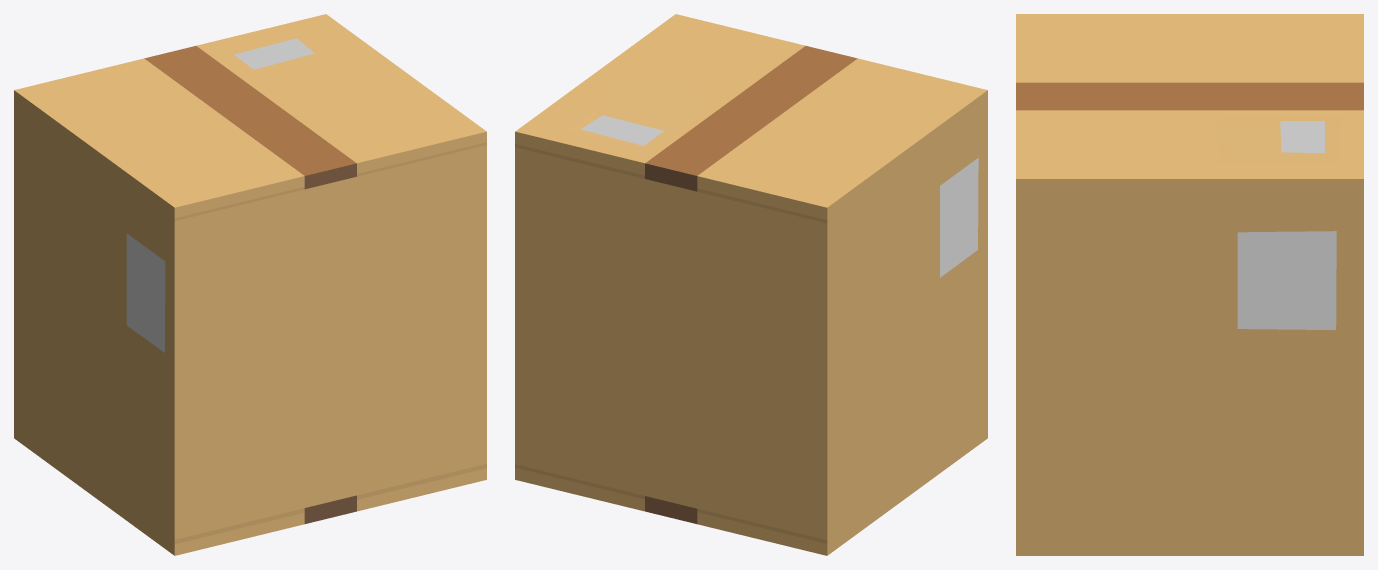
The model's file is Cs_Sqr_Brn.fbx.
3 renders of one model, left to right at view 1: azimuth 30°, elevation 25°; view 2: azimuth 150°, elevation 25°; view 3: azimuth 270°, elevation 25°, orthographic. The views are drawn at different scales.
Visible parts, largest first — view 1: Cs_Sqr_Brn; view 2: Cs_Sqr_Brn; view 3: Cs_Sqr_Brn.
Part boxes in pixels (box(x1,y1,x2,y2)): Cs_Sqr_Brn: box(14, 14, 486, 555); Cs_Sqr_Brn: box(515, 14, 987, 555); Cs_Sqr_Brn: box(1016, 14, 1363, 555).
Size of the model in its own units: 0.3268 by 0.2914 by 0.349.
